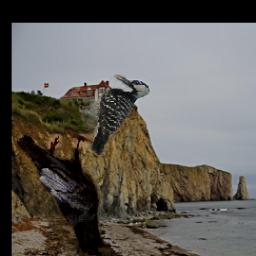Crow: (16, 135, 112, 256)
Woodpecker: (79, 76, 151, 156)
